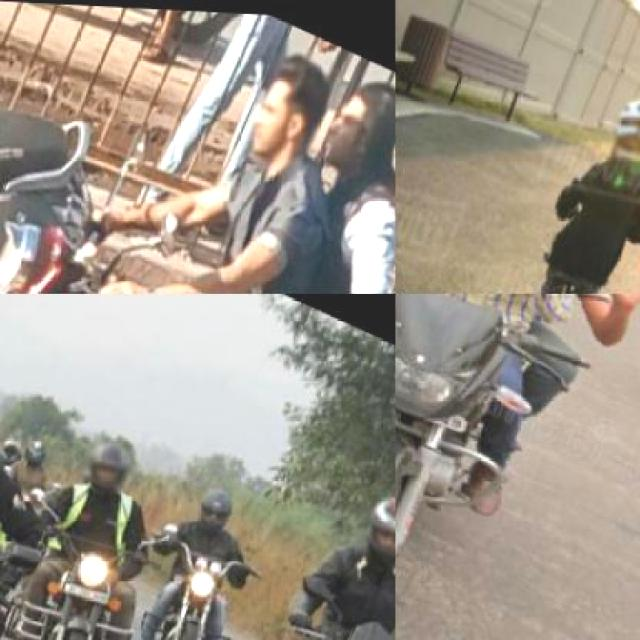With Helmet: (78, 430, 139, 496), (349, 482, 394, 570), (597, 81, 638, 174), (186, 478, 239, 538), (18, 428, 52, 468)
Without Helmet: (231, 28, 344, 181), (323, 57, 394, 165)
